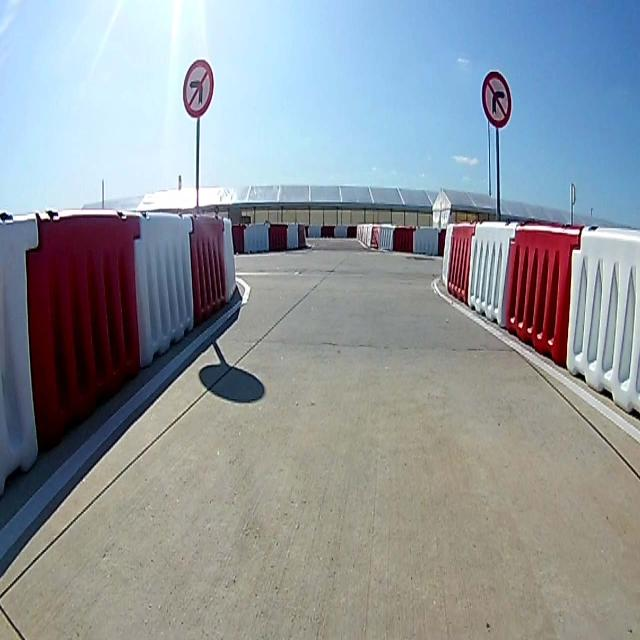sagadonulmez: (480, 67, 510, 125)
soladonulmez: (180, 60, 217, 118)
